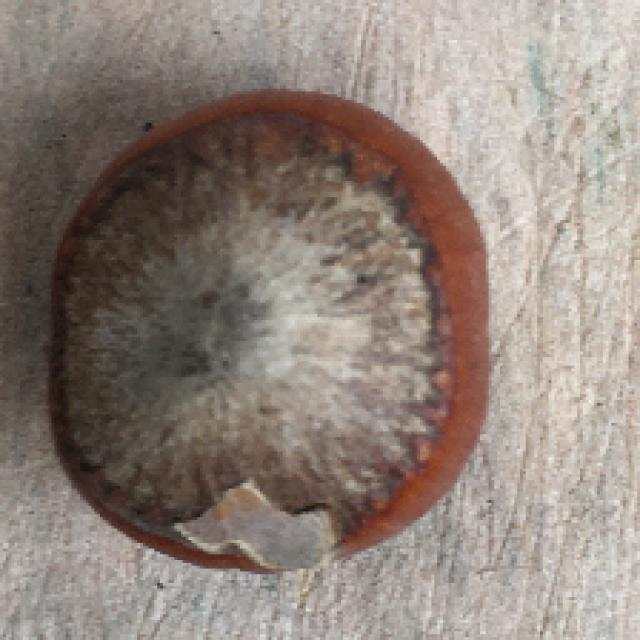QualityHazelnut: (47, 88, 492, 574)
